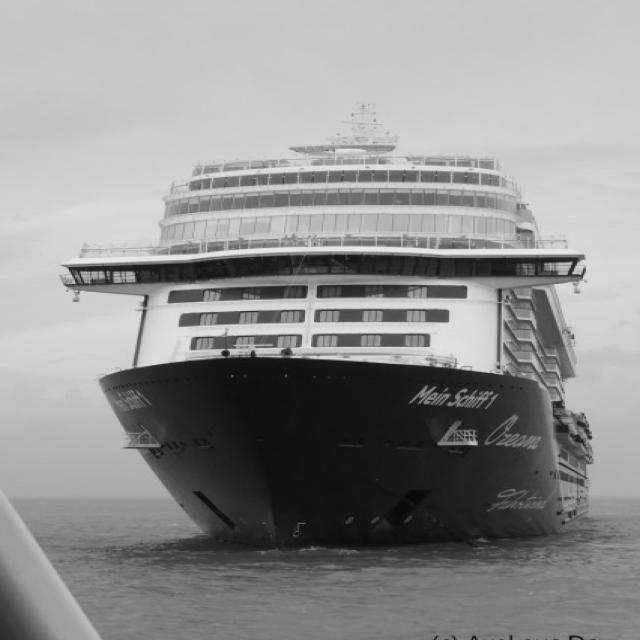cruises: (52, 106, 617, 555)
